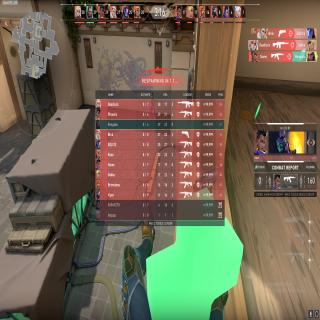ENEMY-BODY: (149, 92, 156, 120)
ENEMY-HEAD: (152, 92, 154, 97)
